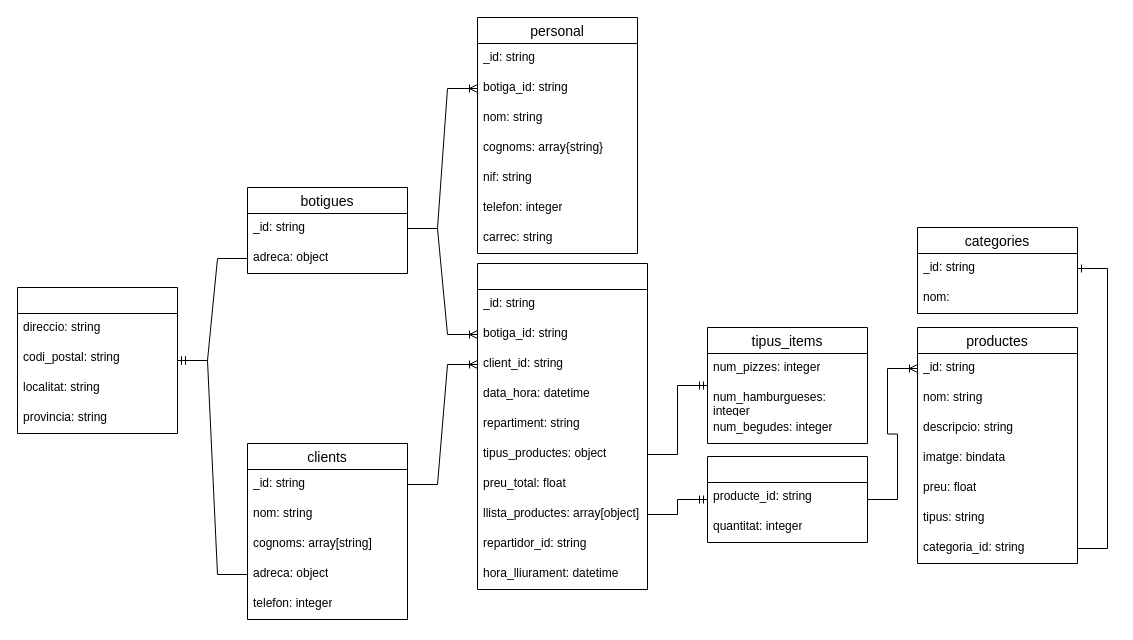
This 1133x640 diagram has some shape labels left out. The shapes that lost their labels are listed below. From the top down, each one's box as (x1, y1, x2, y2) in pixels, then its label:
(16, 286, 178, 434): adreces
(476, 262, 648, 590): comandes
(706, 456, 868, 542): llista_productes_object
